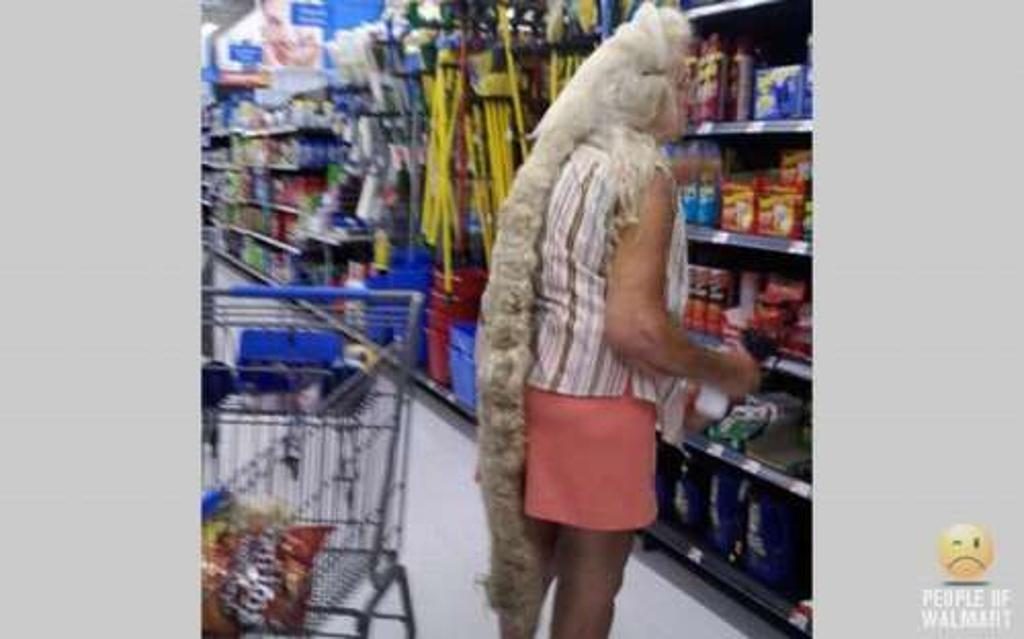face: (647, 53, 701, 145)
